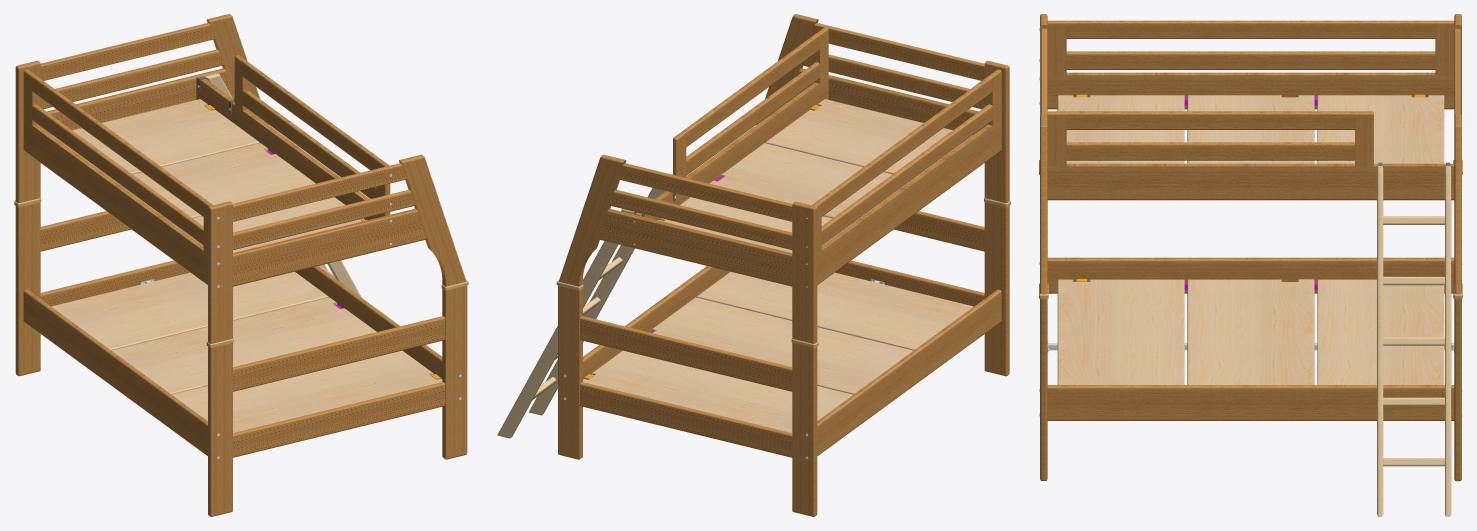
The model's file is HOS4144-BEDFULLTW-mwmn0jyx.glb.
The picture shows the model from 3 angles, left to right: view 1: azimuth 30°, elevation 25°; view 2: azimuth 150°, elevation 25°; view 3: azimuth 270°, elevation 25°; orthographic projection. The views are drawn at different scales.
Visible parts, largest first — view 1: 4144-BEDTW02-PIECERA INFERIOR-1/4144-BEDTW02-ARMADOR PIECERA (×3), 4144-BEDFL-TABLERO TARIMA-1, 4144-BEDFL-TABLERO TARIMA-15, 4144-BEDTW02-PIECERA INFERIOR-4/4144-BEDTW02-ARMADOR PIECERA (×3), 4144-BEDFL-TABLERO TARIMA-17, HOS4144-ENSABLE RIEL SUPERIOR-2/4144-BEDTW02-RIEL SUPERIOR I (×2), HOS4144-ENSABLE RIEL SUPERIOR-2/4144-BEDTW02-RIEL-2/4144-BED, 4144-BEDFL-RIEL-3/4144-BEDFL-RIEL INFERIOR-1, 4144-BEDTW02-TABLERO TARIMA-1, 4144-BEDTW02-TABLERO TARIMA-14, 4144-BEDFL-PIECERA INFERIOR-2/4144-BEDFL-ARMADOR PIECERA-5, 4144-BEDFL-PIECERA INFERIOR-2/4144-BEDFL-ARMADOR PIECERA SUP (+15 smaller); view 2: 4144-BEDTW02-PIECERA INFERIOR-4/4144-BEDTW02-ARMADOR PIECERA (×3), 4144-BEDFL-TABLERO TARIMA-17, 4144-BEDFL-TABLERO TARIMA-15, 4144-BEDTW02-PIECERA INFERIOR-1/4144-BEDTW02-ARMADOR PIECERA (×3), 4144-BEDFL-TABLERO TARIMA-1, HOS4144-ENSABLE RIEL SUPERIOR-2/4144-BEDTW02-RIEL SUPERIOR I (×2), HOS4144-ENSABLE RIEL SUPERIOR-2/4144-BEDTW02-RIEL-2/4144-BED, 4144-BEDFL-RIEL-3/4144-BEDFL-RIEL INFERIOR-1, 4144-BEDTW02-TABLERO TARIMA-15, 4144-BEDTW02-TABLERO TARIMA-14, 4144-BEDFL-PIECERA INFERIOR-3/4144-BEDFL-ARMADOR PIECERA SUP, 4144-BEDFL-PIECERA INFERIOR-3/4144-BEDFL-ARMADOR PIECERA-5 (+17 smaller); view 3: HOS4144-ENSABLE RIEL SUPERIOR CORTO-1/4144-BEDTW02-RIEL-3/41, HOS4144-ENSABLE RIEL SUPERIOR-2/4144-BEDTW02-RIEL SUPERIOR I (×2), 4144-BEDFL-RIEL-2/4144-BEDFL-RIEL INFERIOR-1, 4144-BEDFL-TABLERO TARIMA-15, 4144-BEDFL-TABLERO TARIMA-17, 4144-BEDFL-TABLERO TARIMA-1, HOS4144-ENSABLE RIEL SUPERIOR CORTO-1/4144-BEDTW02-RIEL SUPE (×2), HOS4144-ENSABLE RIEL SUPERIOR-2/4144-BEDTW02-RIEL-2/4144-BED, 4144-BEDFL-RIEL-3/4144-BEDFL-RIEL INFERIOR-1, 4144-BEDTW02-TABLERO TARIMA-1, 4144-BEDTW02-TABLERO TARIMA-14, 4144-BEDTW02-TABLERO TARIMA-15 (+15 smaller).
Part boxes in pixels (<box>): 4144-BEDTW02-PIECERA INFERIOR-1/4144-BEDTW02-ARMADOR PIECERA (×3): <box>233,163,426,286</box>; 4144-BEDFL-TABLERO TARIMA-1: <box>51,271,328,350</box>; 4144-BEDFL-TABLERO TARIMA-15: <box>111,297,376,394</box>; 4144-BEDTW02-PIECERA INFERIOR-4/4144-BEDTW02-ARMADOR PIECERA (×3): <box>40,23,234,134</box>; 4144-BEDFL-TABLERO TARIMA-17: <box>172,350,442,432</box>; HOS4144-ENSABLE RIEL SUPERIOR-2/4144-BEDTW02-RIEL SUPERIOR I (×2): <box>32,76,206,245</box>; HOS4144-ENSABLE RIEL SUPERIOR-2/4144-BEDTW02-RIEL-2/4144-BED: <box>23,119,207,284</box>; 4144-BEDFL-RIEL-3/4144-BEDFL-RIEL INFERIOR-1: <box>23,289,207,455</box>; 4144-BEDTW02-TABLERO TARIMA-1: <box>52,99,259,178</box>; 4144-BEDTW02-TABLERO TARIMA-14: <box>113,143,315,223</box>; 4144-BEDFL-PIECERA INFERIOR-2/4144-BEDFL-ARMADOR PIECERA-5: <box>233,382,445,457</box>; 4144-BEDFL-PIECERA INFERIOR-2/4144-BEDFL-ARMADOR PIECERA SUP: <box>233,316,445,391</box>; 4144-BEDTW02-PIECERA INFERIOR-4/4144-BEDTW02-ARMADOR PIECERA (×3): <box>598,163,792,286</box>; 4144-BEDFL-TABLERO TARIMA-17: <box>696,271,973,350</box>; 4144-BEDFL-TABLERO TARIMA-15: <box>651,297,913,394</box>; 4144-BEDTW02-PIECERA INFERIOR-1/4144-BEDTW02-ARMADOR PIECERA (×3): <box>791,23,984,134</box>; 4144-BEDFL-TABLERO TARIMA-1: <box>583,350,853,432</box>; HOS4144-ENSABLE RIEL SUPERIOR-2/4144-BEDTW02-RIEL SUPERIOR I (×2): <box>818,76,992,245</box>; HOS4144-ENSABLE RIEL SUPERIOR-2/4144-BEDTW02-RIEL-2/4144-BED: <box>817,119,1001,284</box>; 4144-BEDFL-RIEL-3/4144-BEDFL-RIEL INFERIOR-1: <box>817,289,1001,455</box>; 4144-BEDTW02-TABLERO TARIMA-15: <box>765,99,972,179</box>; 4144-BEDTW02-TABLERO TARIMA-14: <box>709,143,912,223</box>; 4144-BEDFL-PIECERA INFERIOR-3/4144-BEDFL-ARMADOR PIECERA SUP: <box>580,316,792,391</box>; 4144-BEDFL-PIECERA INFERIOR-3/4144-BEDFL-ARMADOR PIECERA-5: <box>580,382,792,457</box>; HOS4144-ENSABLE RIEL SUPERIOR CORTO-1/4144-BEDTW02-RIEL-3/41: <box>1047,163,1454,200</box>; HOS4144-ENSABLE RIEL SUPERIOR-2/4144-BEDTW02-RIEL SUPERIOR I (×2): <box>1066,20,1435,69</box>; 4144-BEDFL-RIEL-2/4144-BEDFL-RIEL INFERIOR-1: <box>1047,385,1454,420</box>; 4144-BEDFL-TABLERO TARIMA-15: <box>1187,279,1314,384</box>; 4144-BEDFL-TABLERO TARIMA-17: <box>1057,279,1184,384</box>; 4144-BEDFL-TABLERO TARIMA-1: <box>1317,279,1444,384</box>; HOS4144-ENSABLE RIEL SUPERIOR CORTO-1/4144-BEDTW02-RIEL SUPE (×2): <box>1066,111,1354,160</box>; HOS4144-ENSABLE RIEL SUPERIOR-2/4144-BEDTW02-RIEL-2/4144-BED: <box>1047,72,1454,109</box>; 4144-BEDFL-RIEL-3/4144-BEDFL-RIEL INFERIOR-1: <box>1047,257,1454,293</box>; 4144-BEDTW02-TABLERO TARIMA-1: <box>1317,95,1444,163</box>; 4144-BEDTW02-TABLERO TARIMA-14: <box>1187,95,1314,163</box>; 4144-BEDTW02-TABLERO TARIMA-15: <box>1057,95,1184,163</box>.
Bounding box in the file's own units: 1.9 × 1.74 × 2.
13 materials, 5 textured.
